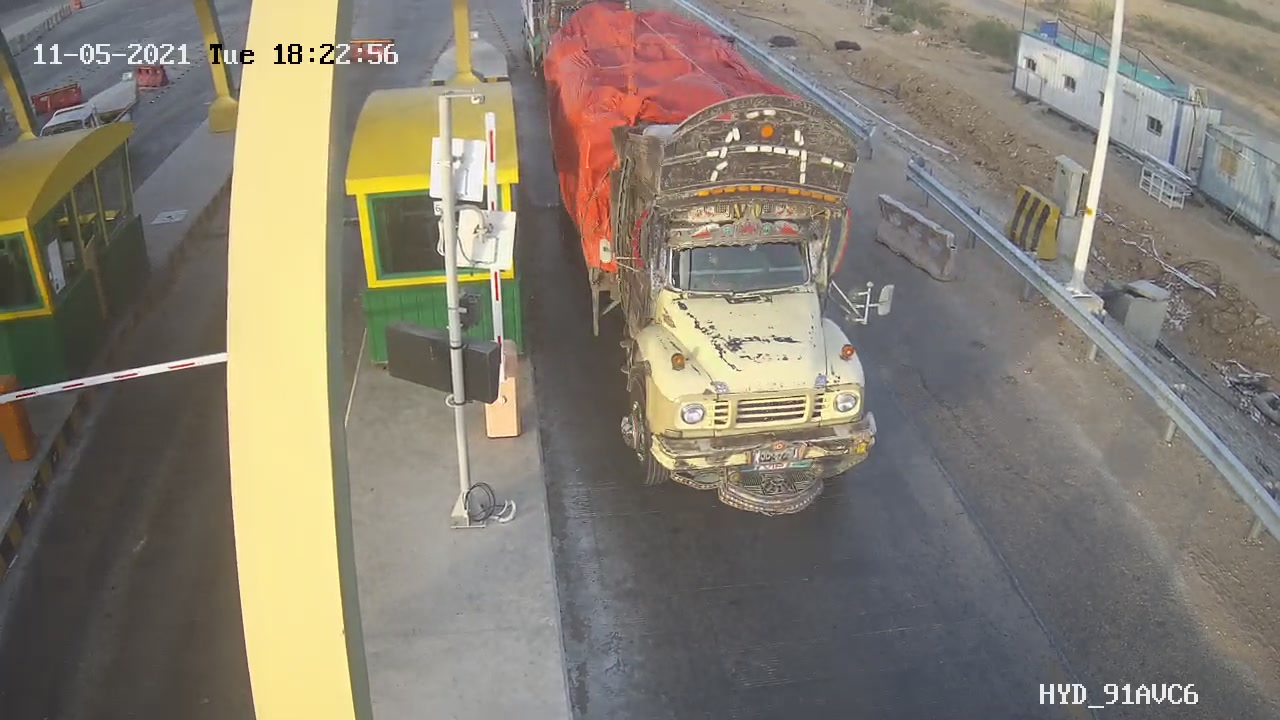F5: (548, 14, 894, 516)
